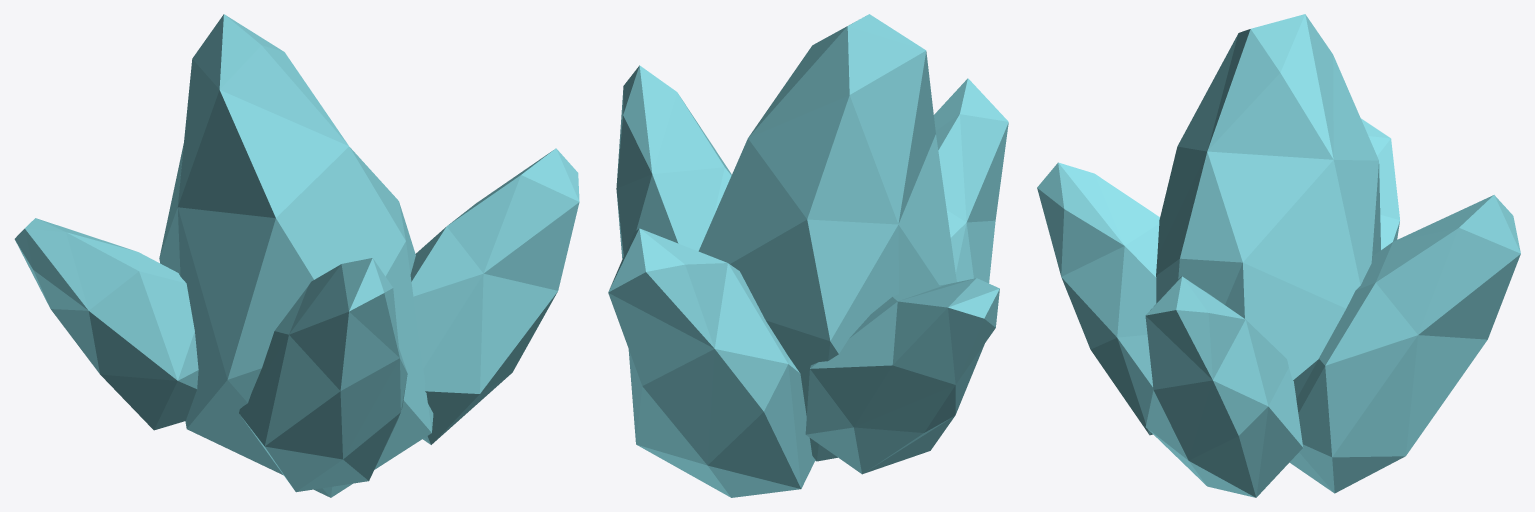
Rendered from Altar_Ice.FBX.
3 views of the same model, side by side, from view 1: azimuth 30°, elevation 25°; view 2: azimuth 150°, elevation 25°; view 3: azimuth 270°, elevation 25° (orthographic). The views are drawn at different scales.
Parts seen in each view (by area): view 1: Ice; view 2: Ice; view 3: Ice.
Boxes of the visible parts, bbox=[...] form: Ice: bbox=[14, 14, 579, 497]; Ice: bbox=[608, 14, 1008, 497]; Ice: bbox=[1037, 14, 1520, 497].
Size of the model in its own units: 222 by 216 by 217.
